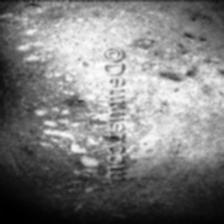Non-Cancerous Skin Condition: (10, 61, 104, 175), (130, 132, 218, 224), (156, 21, 222, 101), (6, 0, 95, 43)
